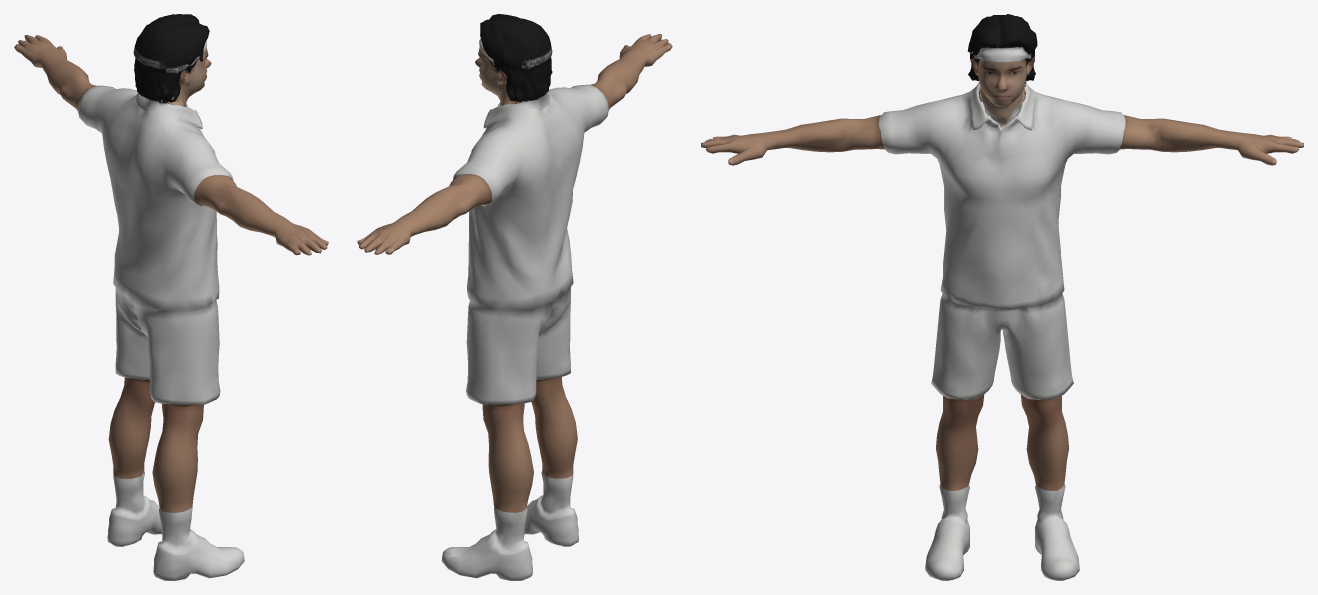
The model's file is spieler_b.glb.
The picture shows the model from 3 angles, left to right: view 1: azimuth 30°, elevation 25°; view 2: azimuth 150°, elevation 25°; view 3: azimuth 270°, elevation 25°; orthographic projection. The views are drawn at different scales.
Visible parts, largest first — view 1: spieler; view 2: spieler; view 3: spieler.
Part boxes in pixels (x1=…): spieler: x1=14, y1=14, x2=328, y2=580; spieler: x1=357, y1=14, x2=672, y2=580; spieler: x1=701, y1=14, x2=1303, y2=580.
Bounding box in the file's own units: 0.1777 × 0.998 × 0.998.
Materials: 1 (1 with a texture image).
